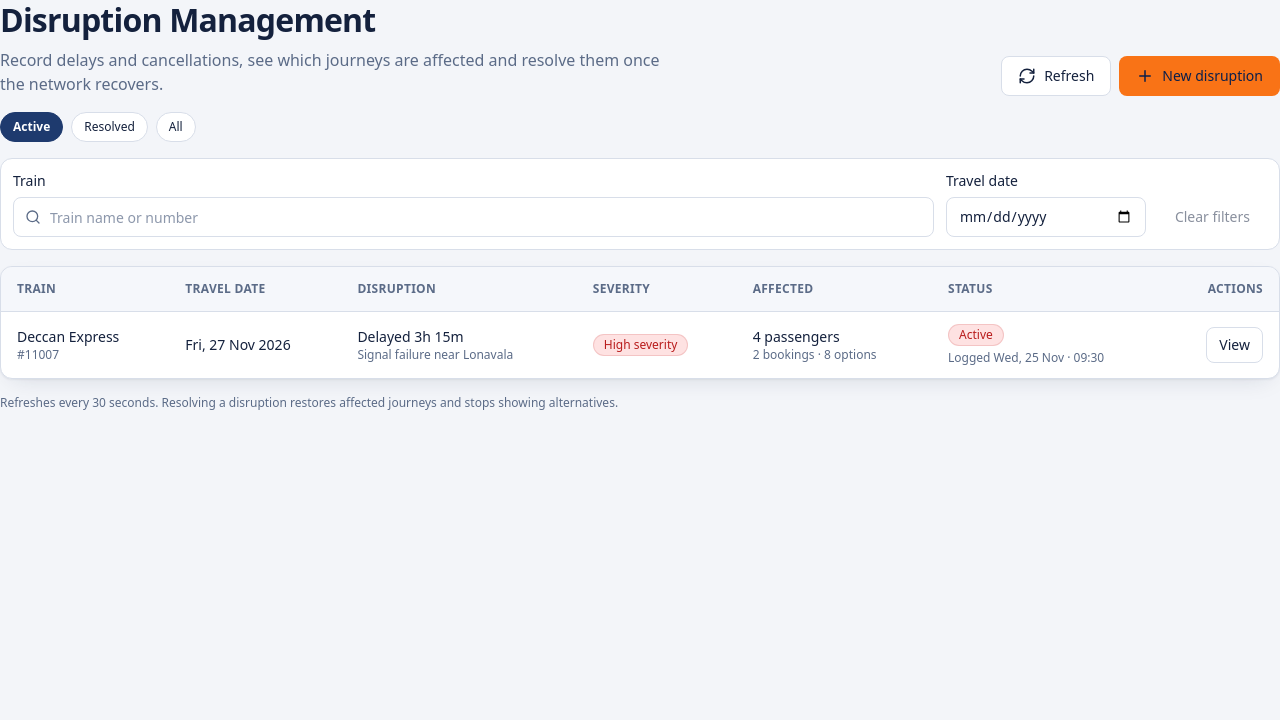
Scenario: Admin disruption management › validates a new disruption before submitting
Click the button "New disruption" at {"x": 1200, "y": 76}, box [1119,56,1279,96]
(page scrolled)
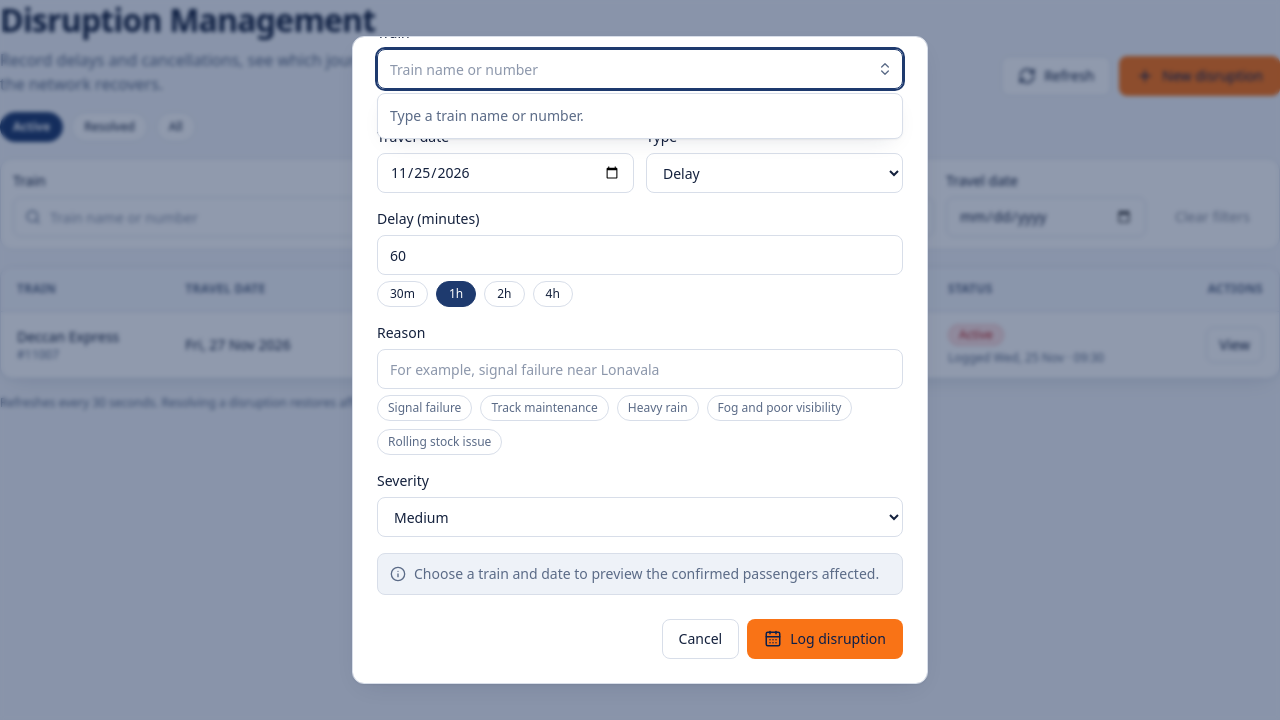
Click the button "Log disruption" at {"x": 825, "y": 639}, box [747,619,903,659]
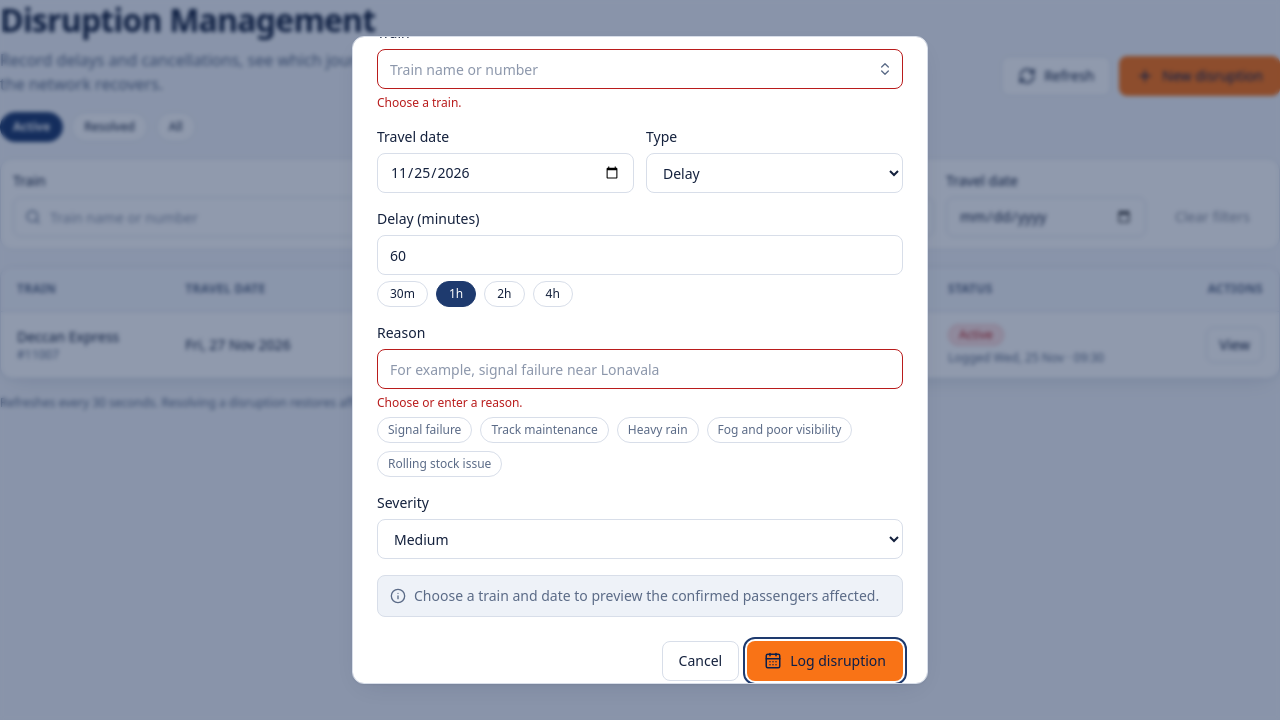
Expected: the text "Choose a train." is shown, [377,94,462,111]
Expected: the text "Choose or enter a reason." is shown, [377,394,523,411]
